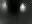person: (3, 3, 9, 15), (21, 5, 27, 16)
